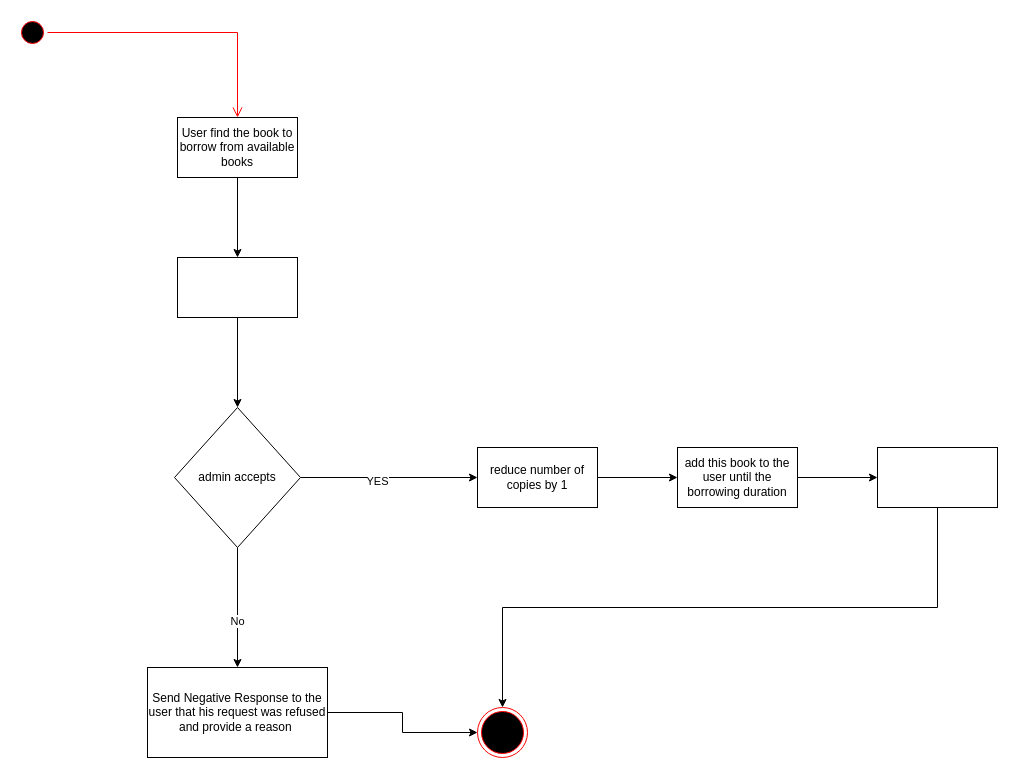
Image size: 1015x775. Some labels were removed from this diagram. The box of each missing label's shape, as (x1, y1, x2, y2) in pixels:
apply to borrowing request and provide time to borrow in weeks: (176, 256, 298, 318)
Send Positive response to the user to come and get his book: (876, 446, 998, 508)
